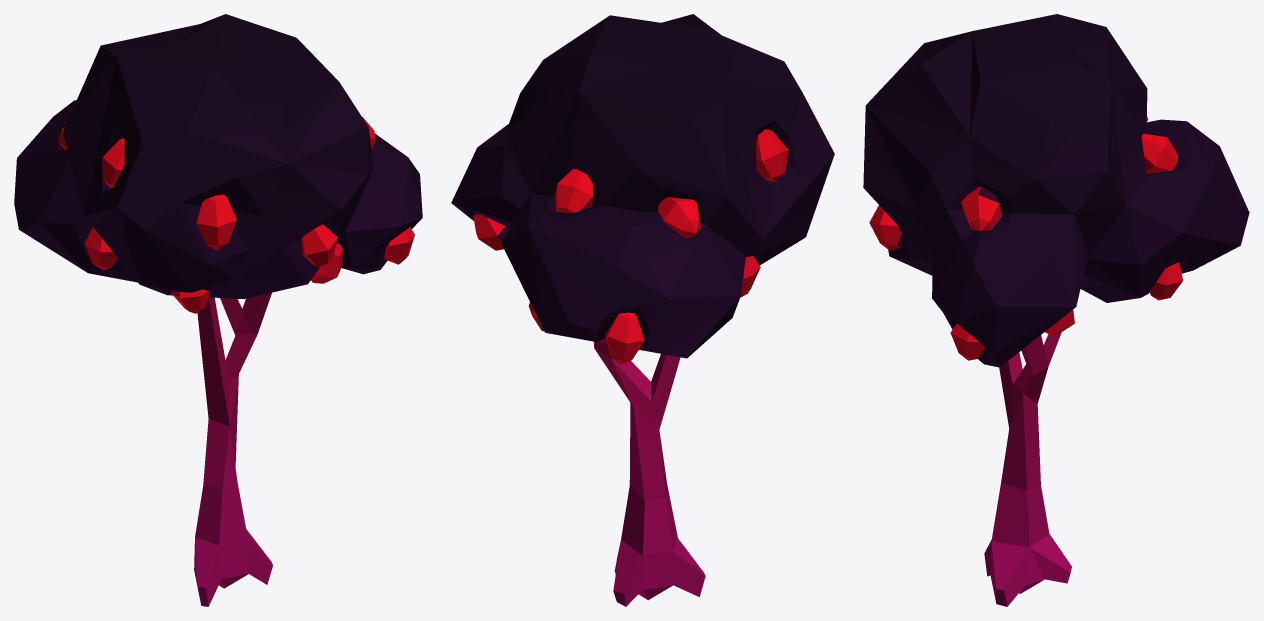
The model's file is tree_G.fbx.
3 renders of one model, left to right at view 1: azimuth 30°, elevation 25°; view 2: azimuth 150°, elevation 25°; view 3: azimuth 270°, elevation 25°, orthographic. The views are drawn at different scales.
Parts seen in each view (by area): view 1: SM_Env_Tree_Lemon_Grown_01; view 2: SM_Env_Tree_Lemon_Grown_01; view 3: SM_Env_Tree_Lemon_Grown_01.
Boxes of the visible parts, x1,y1,x2,y2 form: SM_Env_Tree_Lemon_Grown_01: (14, 14, 422, 606); SM_Env_Tree_Lemon_Grown_01: (451, 14, 834, 606); SM_Env_Tree_Lemon_Grown_01: (863, 14, 1249, 606).
Size of the model in its own units: 173 by 276 by 177.
